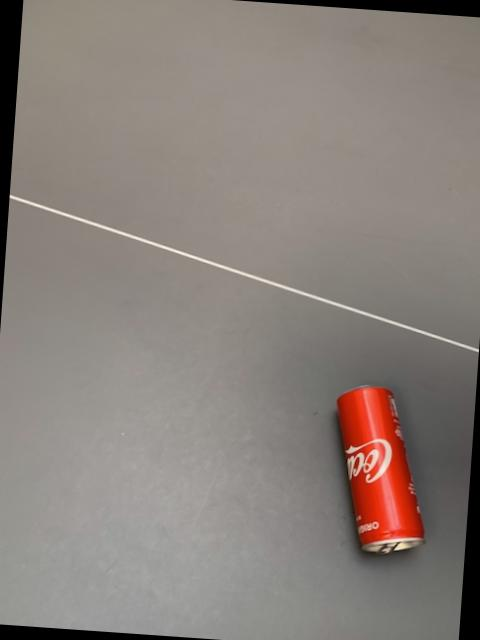metal: (335, 384, 421, 550)
